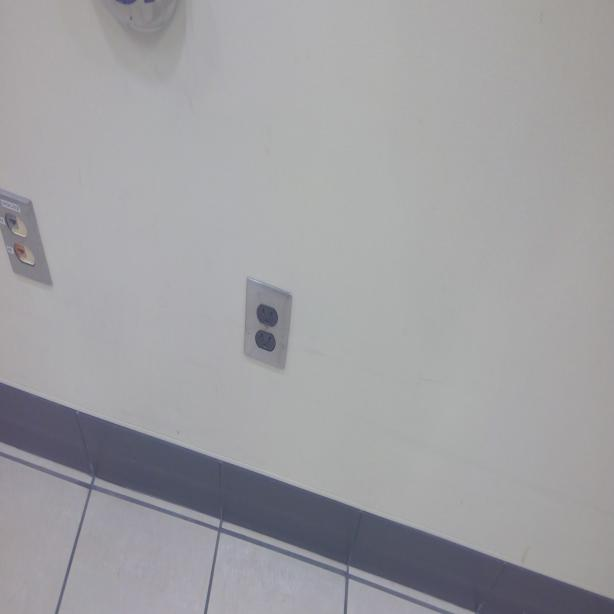typeb: (257, 301, 277, 326), (256, 331, 273, 351)
